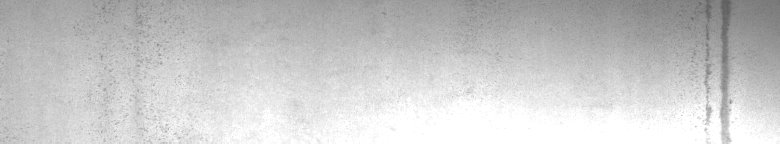ib: (89, 16, 176, 135)
